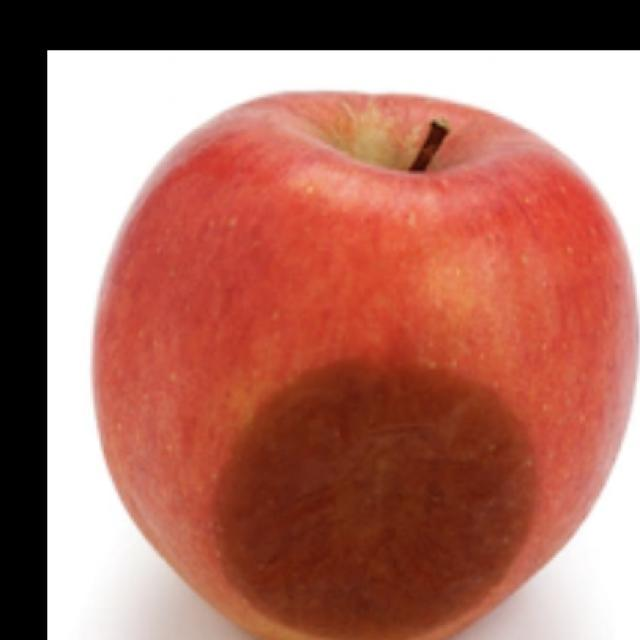Rotten: (83, 78, 640, 640)
